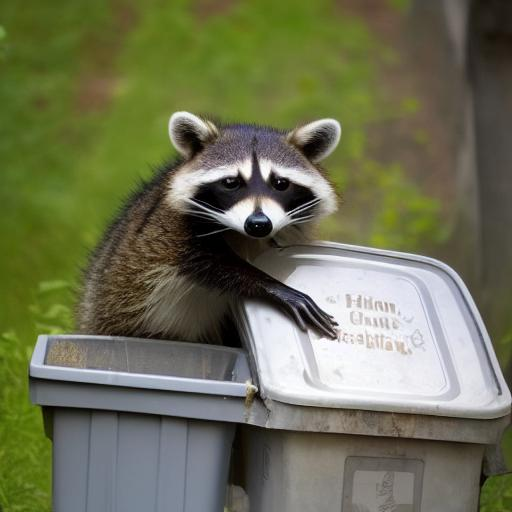raccoon: (70, 101, 359, 346)
